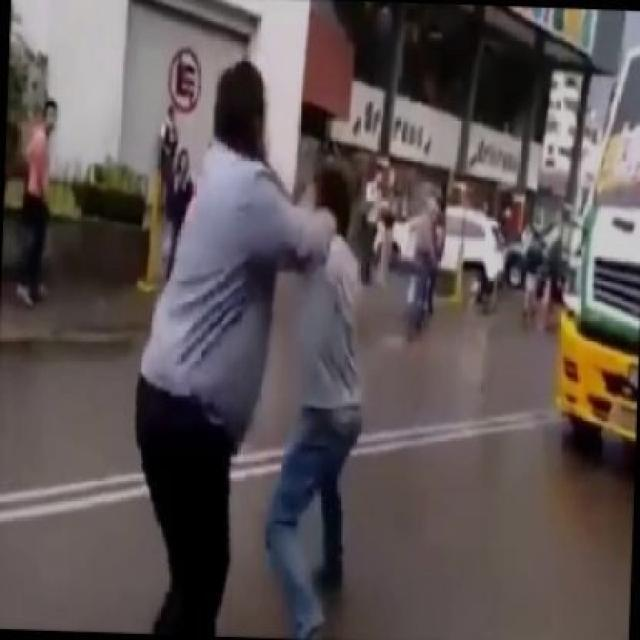fight: (136, 54, 363, 638)
